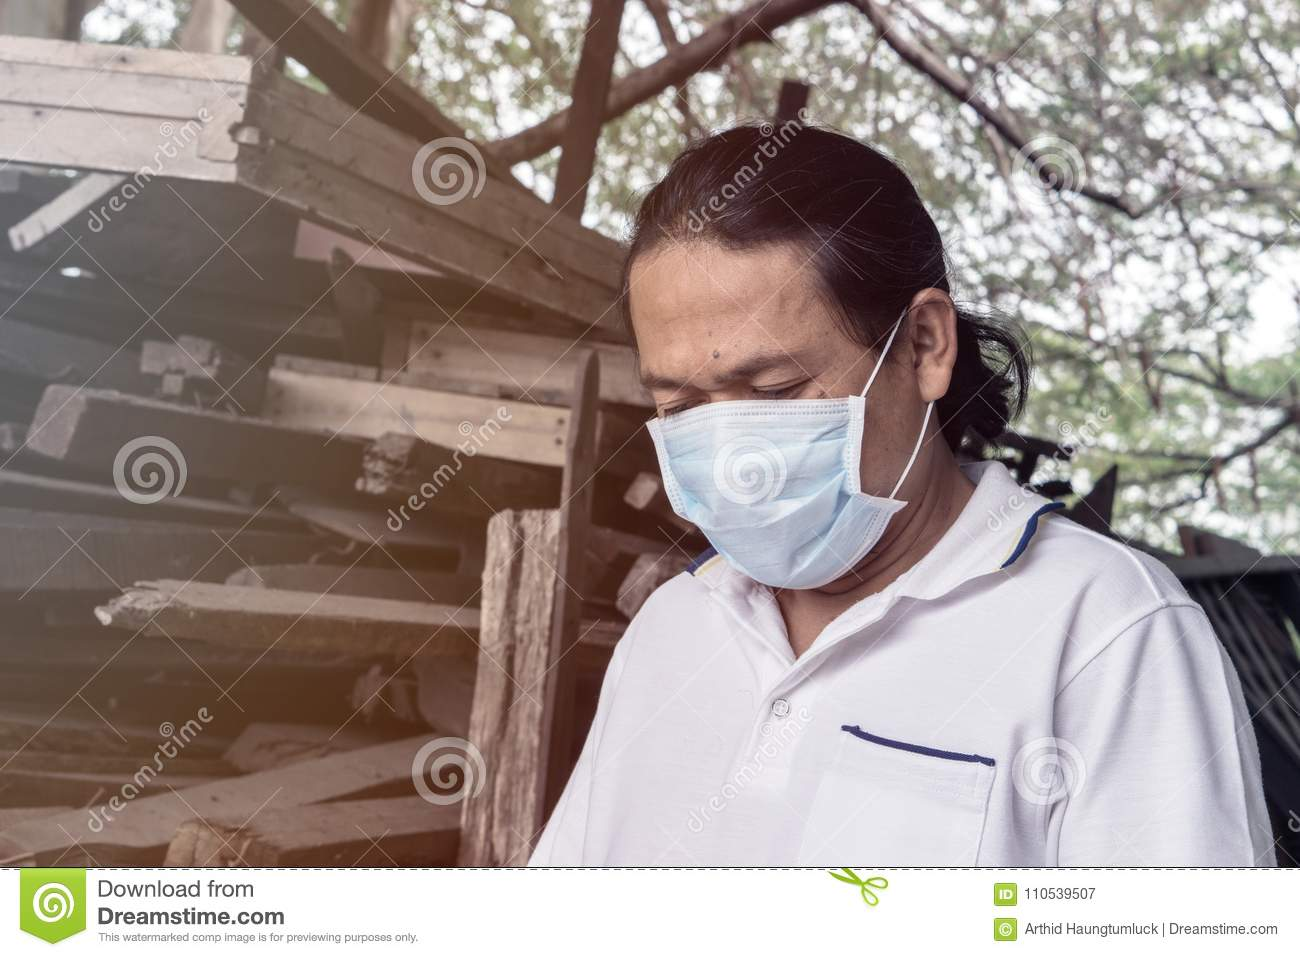mask: (649, 404, 903, 595)
